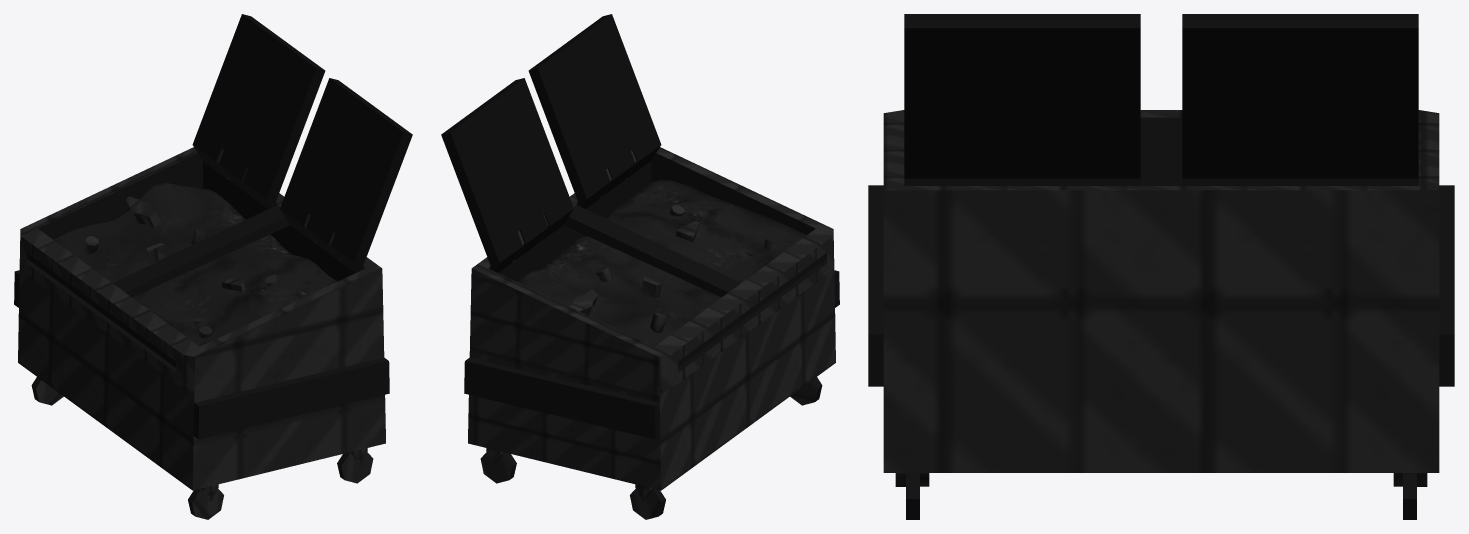
The model's file is dumpstert.fbx.
3 renders of one model, left to right at view 1: azimuth 30°, elevation 25°; view 2: azimuth 150°, elevation 25°; view 3: azimuth 270°, elevation 25°, orthographic. The views are drawn at different scales.
Visible parts, largest first — view 1: Cube; view 2: Cube; view 3: Cube.
Boxes of the visible parts, x1,y1,x2,y2 form: Cube: (14,14,412,519); Cube: (441,14,839,519); Cube: (868,14,1454,519).
Bounding box in the file's own units: 367 × 517 × 508.
